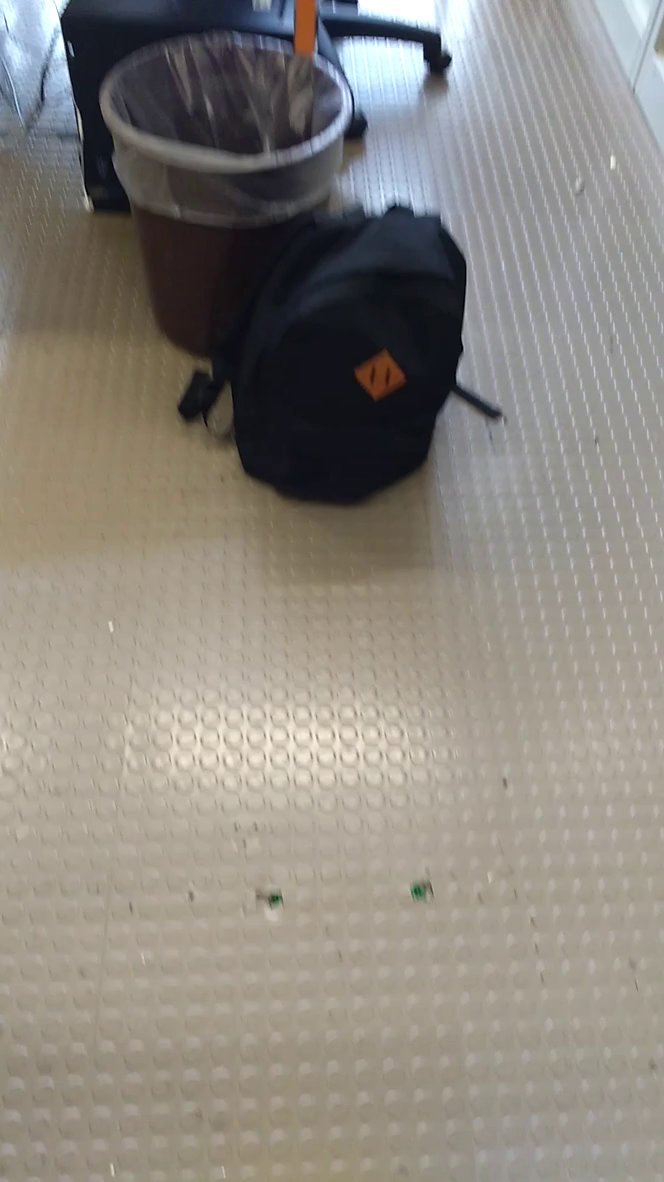bag: (170, 192, 514, 513)
bin: (98, 17, 357, 269)
